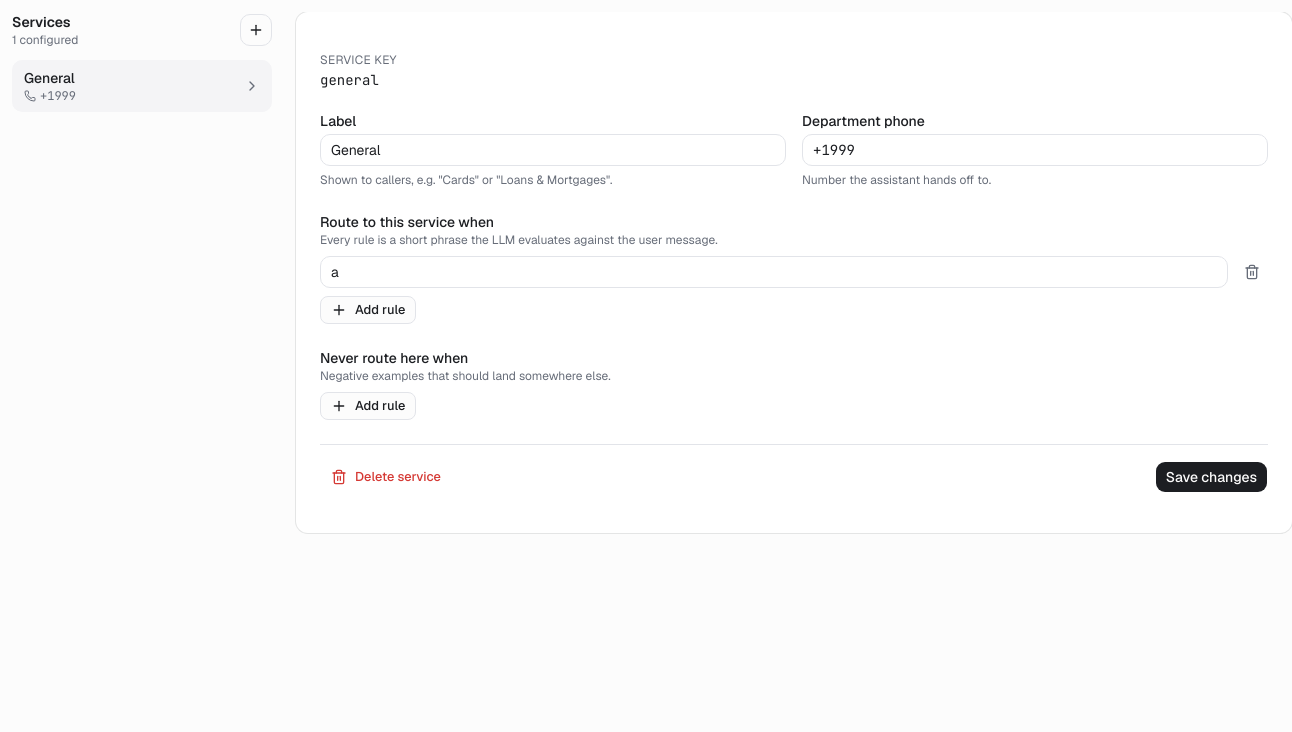
Test: ServicesTab › should_save_edited_label_via_put
Replace the text in the field showing "General" with "General Support" at (553, 150), box [320,134,786,166]
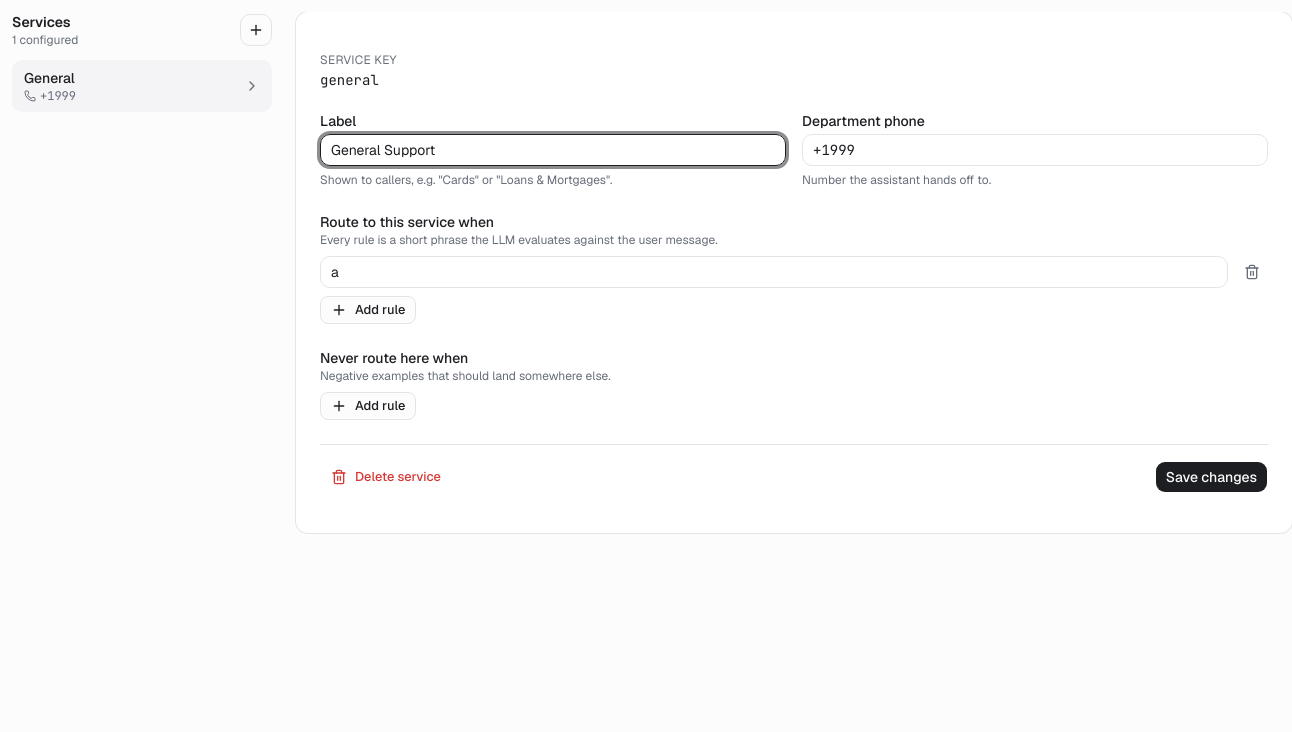
Click the button "Save changes".
click(1211, 477)  # box [1155,461,1268,493]
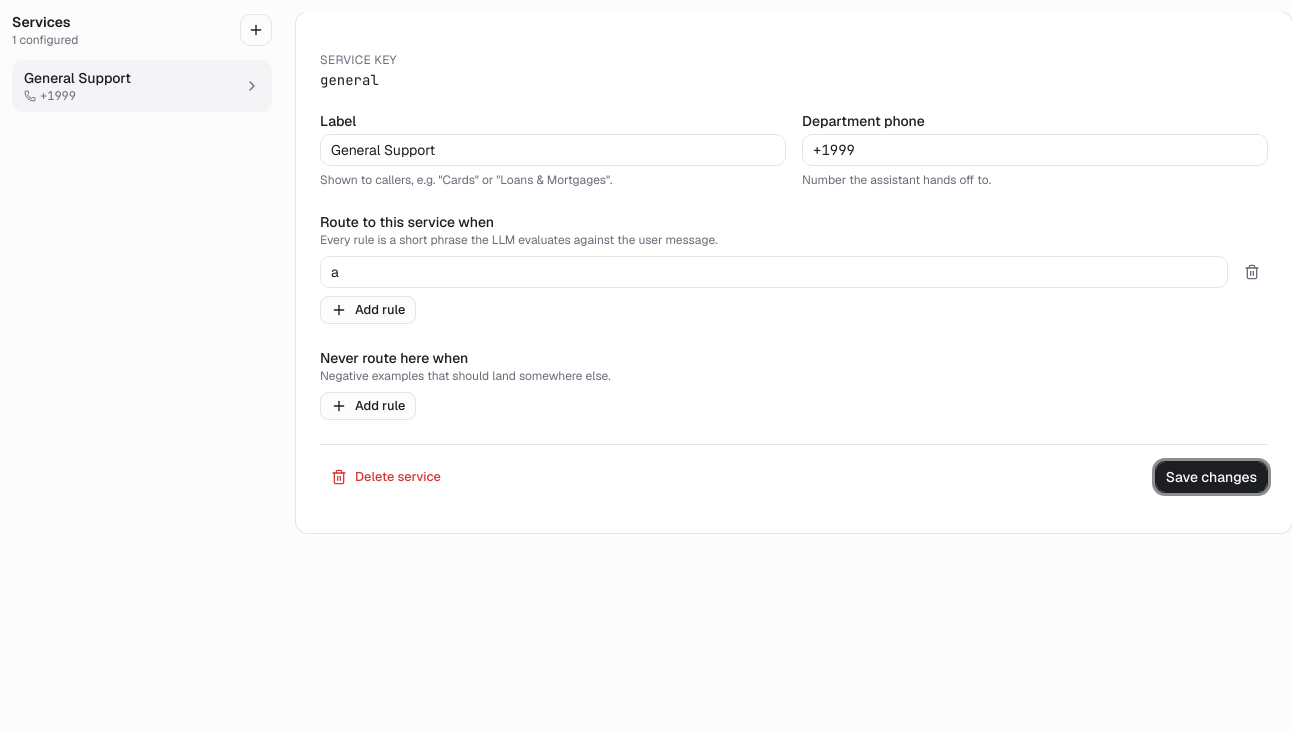
Expected: the text "General Support" is shown, [24,69,131,87]
